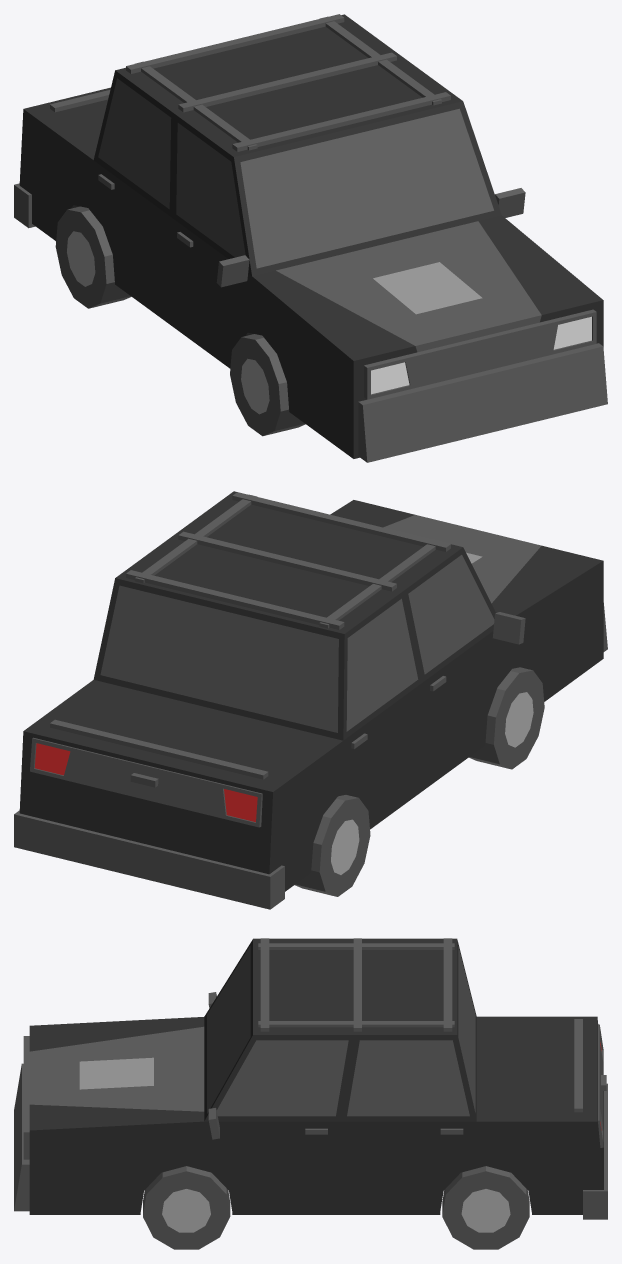
The model's file is SM_Car_01_04.FBX.
3 renders of one model, top to bottom at view 1: azimuth 30°, elevation 25°; view 2: azimuth 150°, elevation 25°; view 3: azimuth 270°, elevation 25°, orthographic. The views are drawn at different scales.
Visible parts, largest first — view 1: SM_Car_01_04, SM_Wheel_RBack001, SM_Wheel_LFront001; view 2: SM_Car_01_04, SM_Wheel_LFront001, SM_Wheel_RBack001; view 3: SM_Car_01_04, SM_Wheel_LBack001, SM_Wheel_LFront002.
Part boxes in pixels (<box>): SM_Car_01_04: <box>14,14,607,462</box>; SM_Wheel_RBack001: <box>55,206,131,308</box>; SM_Wheel_LFront001: <box>230,334,305,436</box>; SM_Car_01_04: <box>14,491,607,909</box>; SM_Wheel_LFront001: <box>469,667,544,769</box>; SM_Wheel_RBack001: <box>295,795,370,896</box>; SM_Car_01_04: <box>14,938,607,1219</box>; SM_Wheel_LBack001: <box>442,1166,529,1249</box>; SM_Wheel_LFront002: <box>143,1166,230,1249</box>.
Bounding box in the file's own units: 1.7 × 1.32 × 3.37.
1 material, 1 textured.
